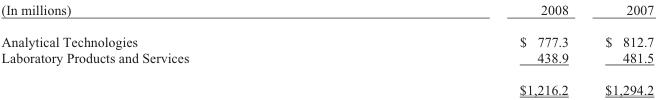table: (0, 1, 653, 97)
table column: (0, 1, 353, 97), (353, 1, 586, 97), (586, 1, 653, 97)
table column header: (0, 1, 653, 25)
table row: (0, 1, 653, 25), (0, 25, 653, 49), (0, 49, 653, 73), (0, 73, 653, 97)
